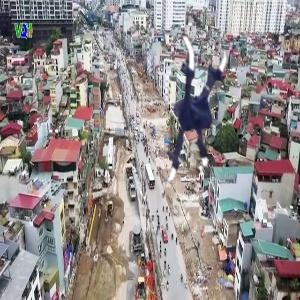drone: (108, 34, 255, 181)
